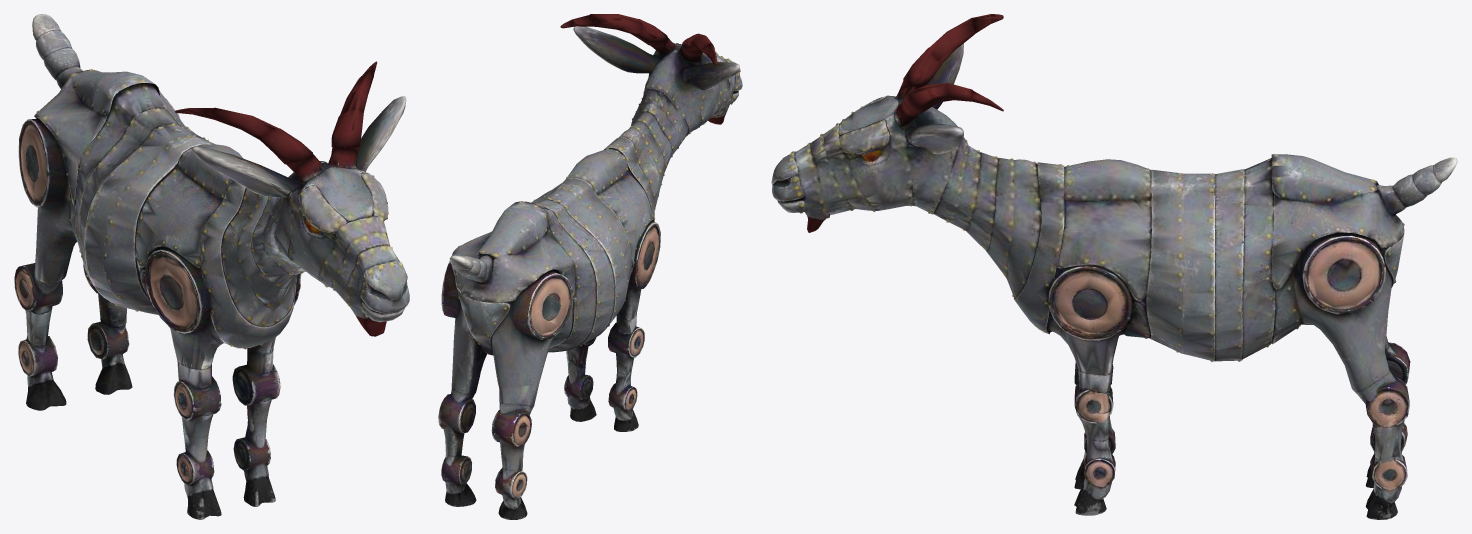
File: MZ4250 - Goat Steel Defender.glb
The picture shows the model from 3 angles, left to right: view 1: azimuth 30°, elevation 25°; view 2: azimuth 150°, elevation 25°; view 3: azimuth 270°, elevation 25°; orthographic projection. The views are drawn at different scales.
Parts seen in each view (by area): view 1: Goat Steel Defender.001; view 2: Goat Steel Defender.001; view 3: Goat Steel Defender.001.
Boxes of the visible parts, x1,y1,x2,y2 form: Goat Steel Defender.001: (14,14,409,519); Goat Steel Defender.001: (438,14,742,519); Goat Steel Defender.001: (771,14,1457,519).
Bounding box in the file's own units: 24.19 × 50.15 × 70.46.
1 material, 1 textured.
